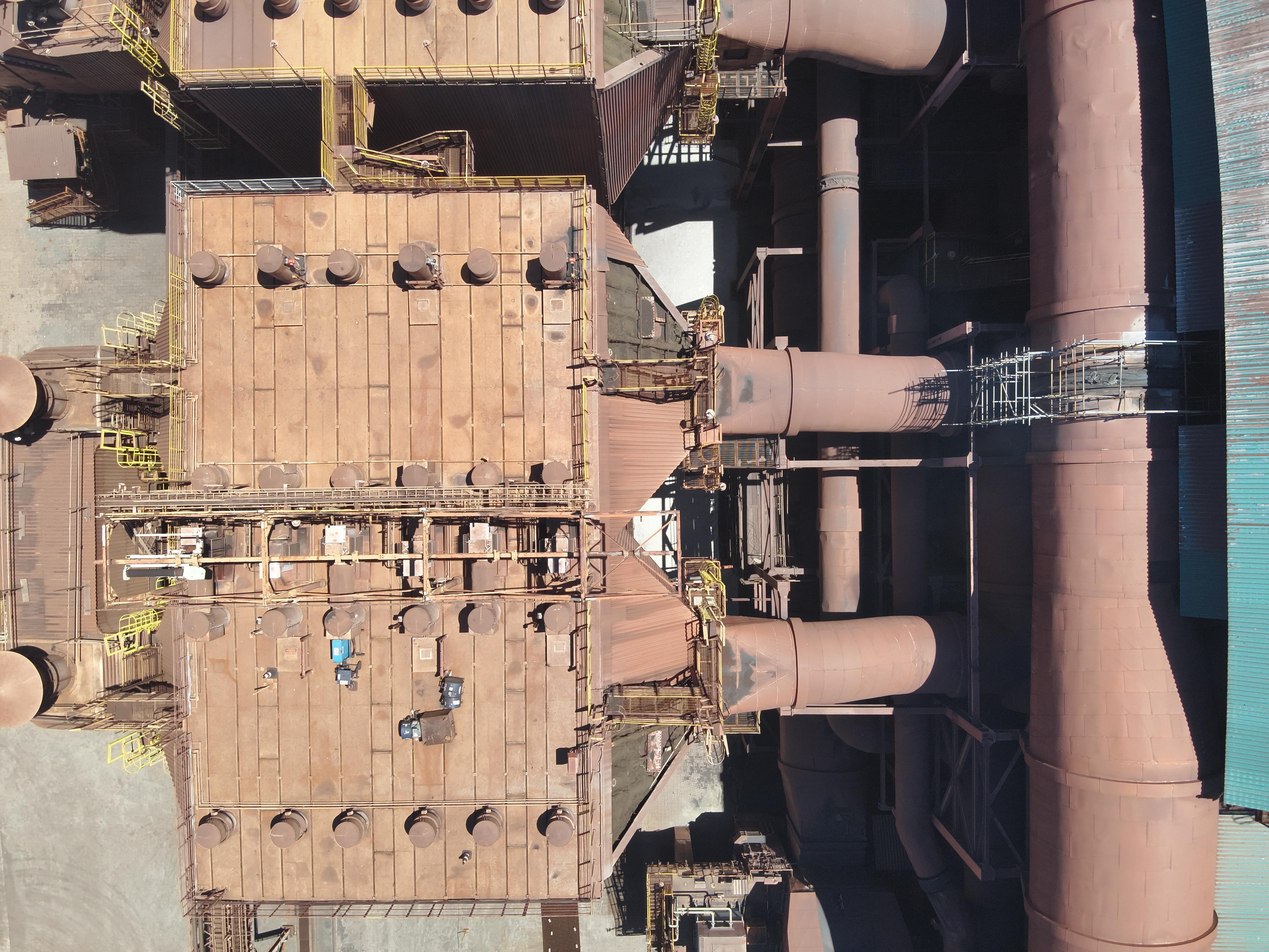Failures: (606, 693, 689, 871), (600, 245, 707, 378), (599, 0, 654, 82)
